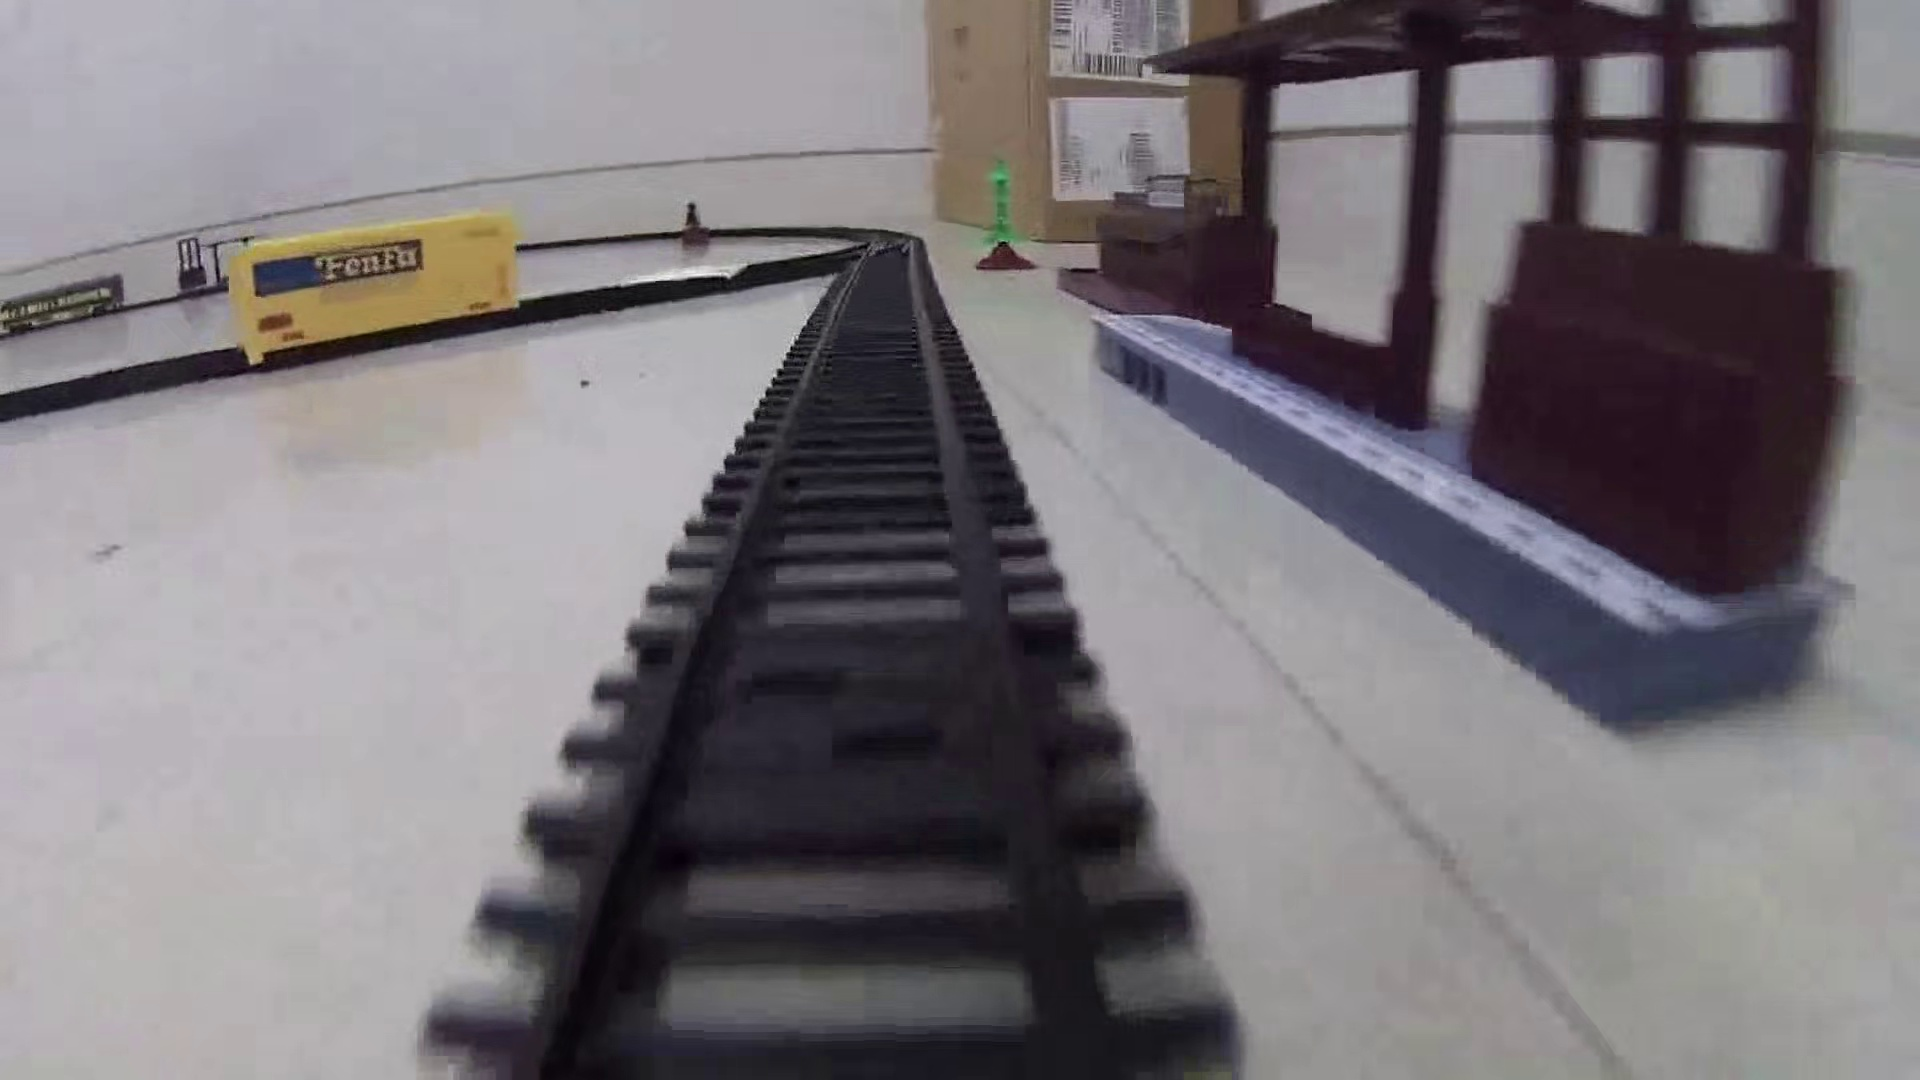people: (683, 201, 704, 242)
tree: (970, 154, 1046, 275)
